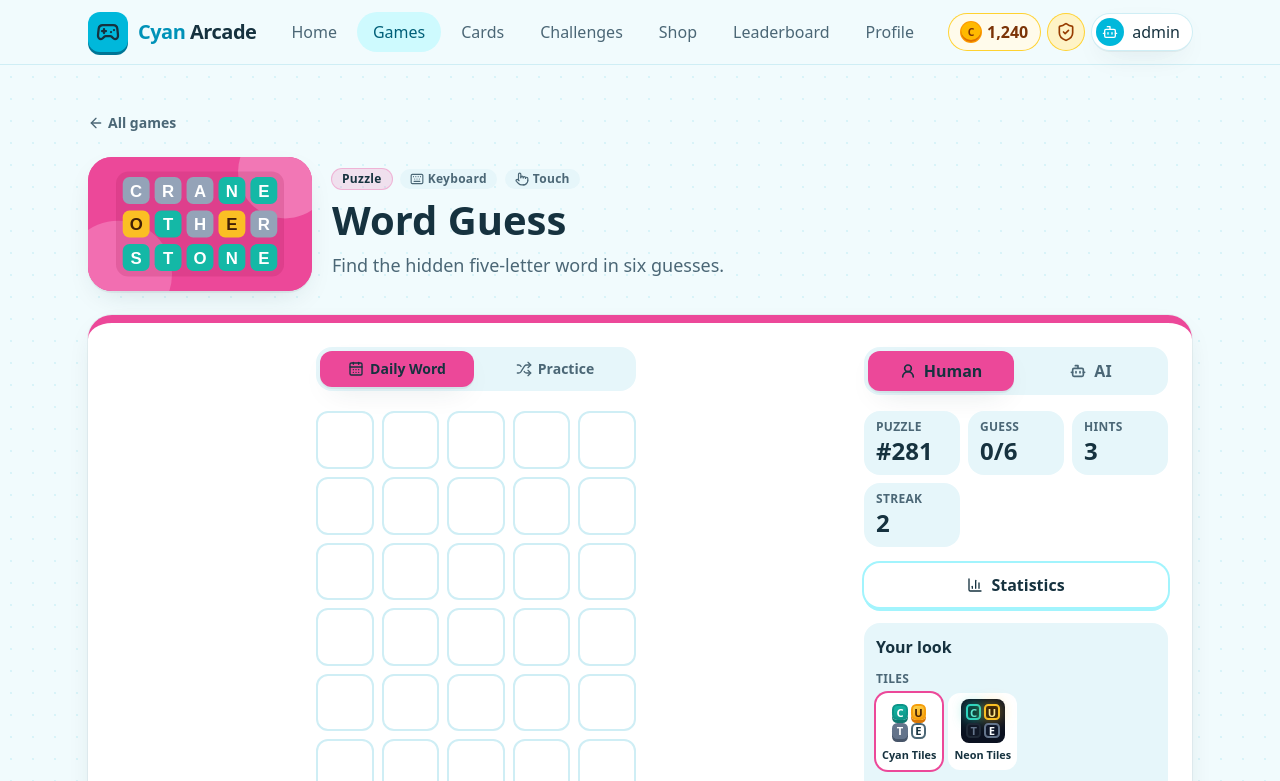
it: Word Guess in the arcade › offers AI mode to an admin, after the server allows it, and never to a player
This screenshot has width=1280, height=781.
Click the button "AI" at (1091, 371), box [1018, 351, 1164, 391]
(page scrolled)
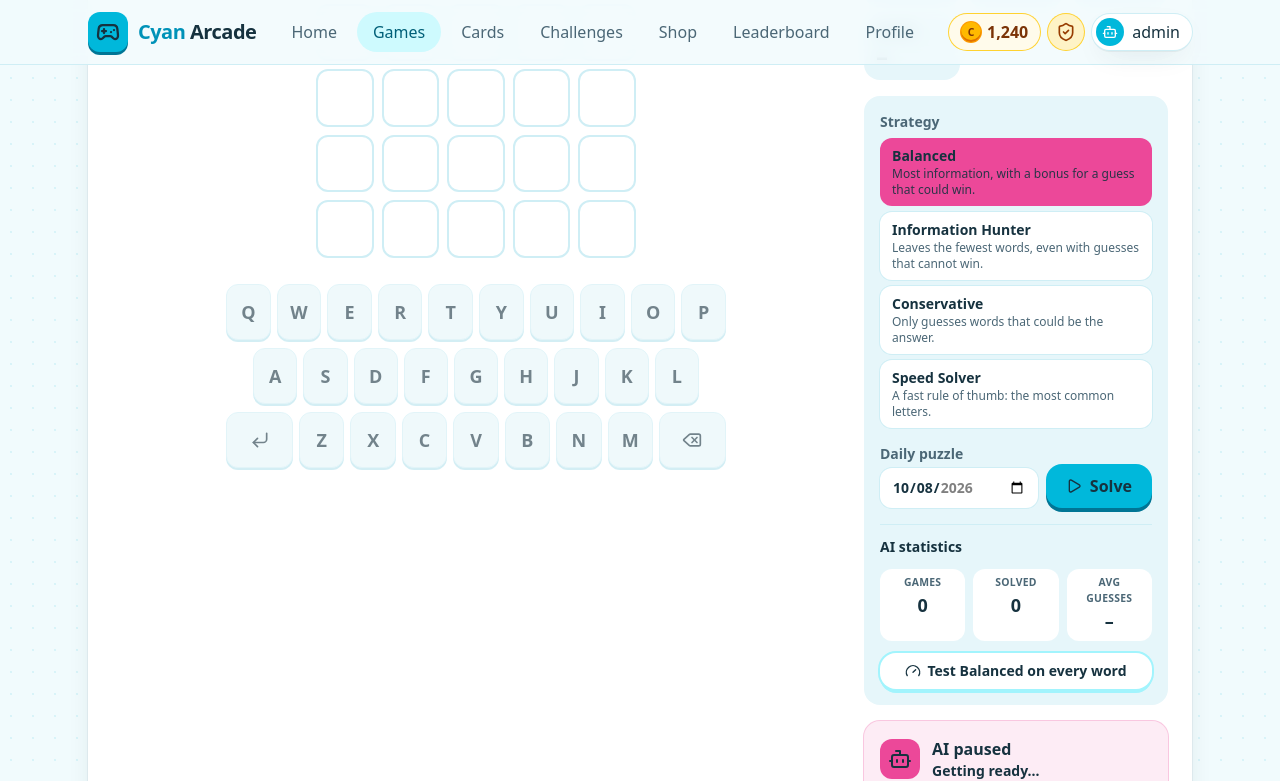
Result: the element named "AI settings" is shown at [864, 96, 1168, 705]
